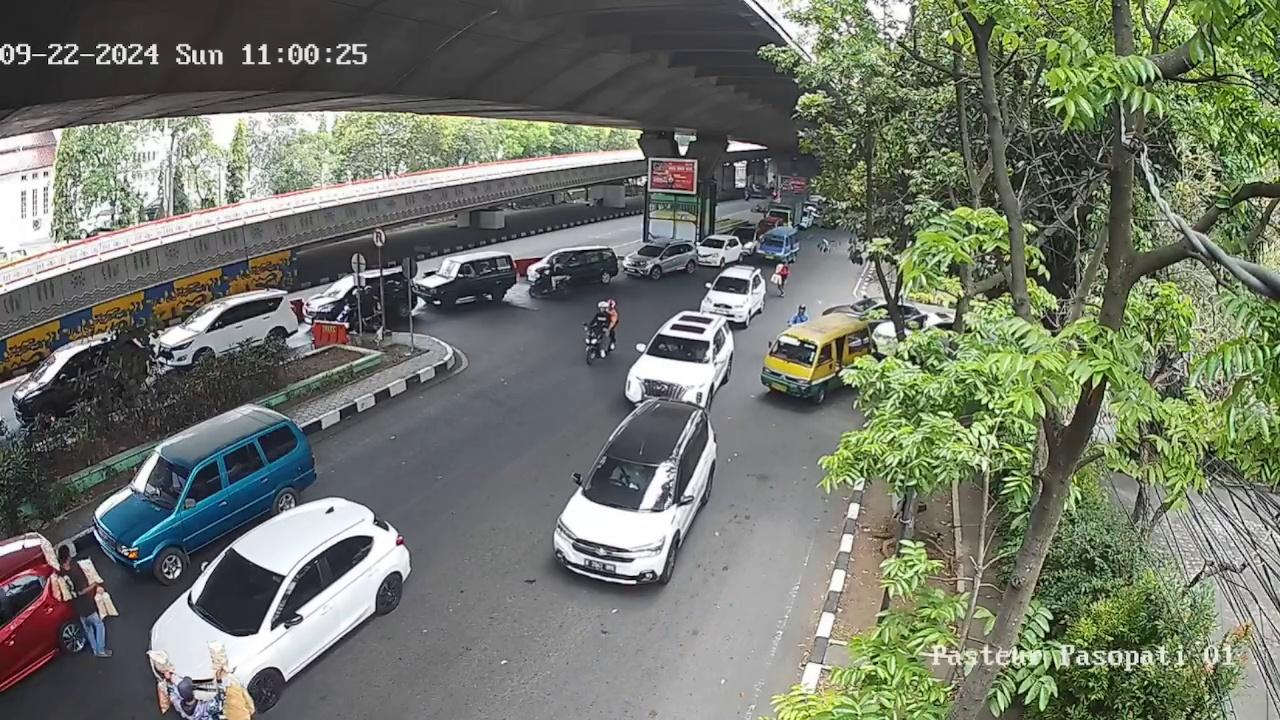pakai: (614, 461, 645, 493), (160, 468, 185, 493), (658, 340, 681, 353)
windshield: (193, 556, 282, 618), (586, 453, 673, 506), (130, 453, 188, 498), (645, 333, 714, 359), (770, 337, 814, 364), (714, 277, 753, 296)
